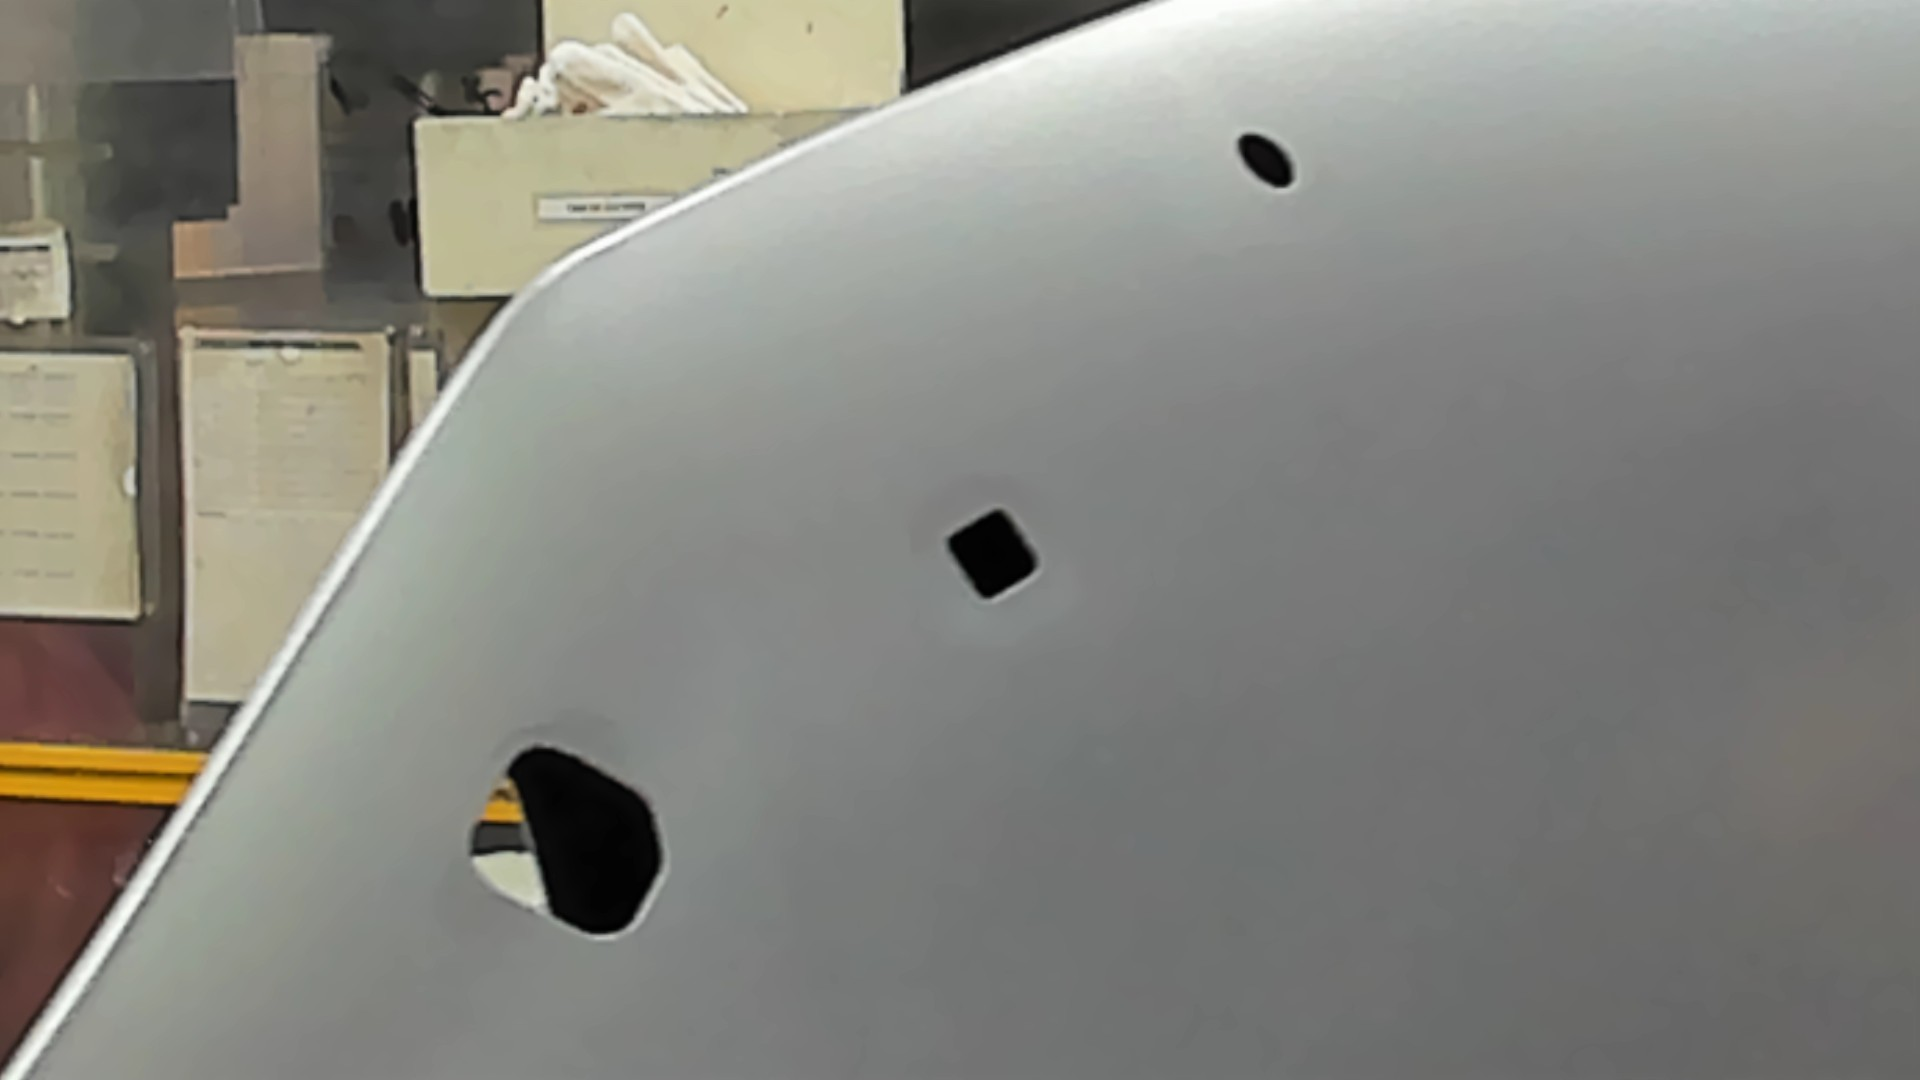chico: (1233, 129, 1300, 194)
grande: (452, 740, 678, 945)
mediano: (938, 501, 1050, 608)
